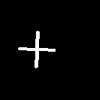single_crochet: (18, 31, 54, 67)
